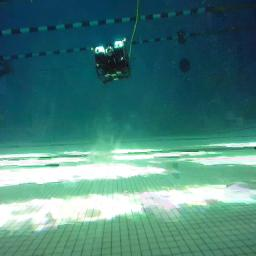front: (90, 37, 131, 83)
